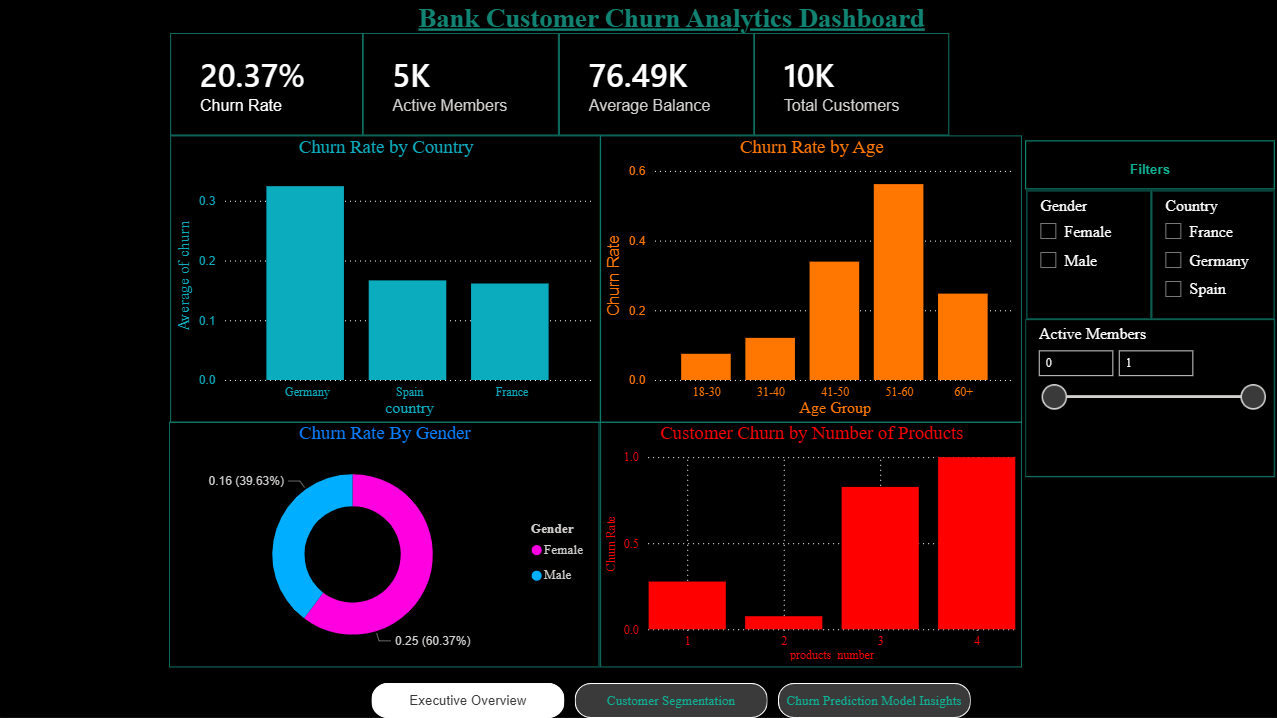

This screenshot's page, from the dashboard's own definition file:
{"tool":"powerbi","page":{"name":"Executive Overview","canvas":[1280,720],"ordinal":0},"visuals":[{"type":"cardVisual","fields":{"Data":["CountNonNull(cleaned_bank_churn.credit_card)"]},"box":[754.5,34.8,195,102.5],"z":0},{"type":"cardVisual","fields":{"Data":["cleaned_bank_churn.Churn Rate"]},"box":[170.7,34.8,192.5,102.5],"z":1000},{"type":"cardVisual","fields":{"Data":["cleaned_bank_churn.Active Members"]},"box":[363.2,34.8,196.2,102.5],"z":2000},{"type":"cardVisual","fields":{"Data":["cleaned_bank_churn.Average Balance"]},"box":[559.5,34.8,195,102.5],"z":3000},{"type":"clusteredColumnChart","title":"Churn Rate by Country","fields":{"Category":["cleaned_bank_churn.country"],"Y":["Avg(cleaned_bank_churn.churn)"]},"box":[170.7,137.3,430,287.5],"z":4000},{"type":"donutChart","title":"Churn Rate By Gender","fields":{"Category":["cleaned_bank_churn.gender"],"Y":["Avg(cleaned_bank_churn.churn)"]},"box":[170.6,424,430,245.4],"z":5000},{"type":"columnChart","title":"Customer Churn by Number of Products","fields":{"Category":["cleaned_bank_churn.products_number"],"Y":["Avg(cleaned_bank_churn.churn)"]},"box":[600.7,423.4,421.4,245.7],"z":6000},{"type":"slicer","fields":{"Values":["cleaned_bank_churn.country"]},"box":[1152.7,192,124.3,128.6],"z":7000},{"type":"slicer","fields":{"Values":["cleaned_bank_churn.gender"]},"box":[1027.5,192.5,125,128.8],"z":8000},{"type":"slicer","fields":{"Values":["cleaned_bank_churn.active_member"]},"box":[1026.2,321.2,250,157.5],"z":9000},{"type":"textbox","box":[292.3,0,760.2,53.5],"z":10000},{"type":"clusteredColumnChart","title":"Churn Rate by Age","fields":{"Y":["Avg(cleaned_bank_churn.churn)"],"Category":["cleaned_bank_churn.Age Group"]},"box":[600.7,137.3,421.2,287.5],"z":11000},{"type":"textbox","box":[1026.8,142.9,250,48.9],"z":12000},{"type":"pageNavigator","box":[372.5,685,600,35],"z":13000}]}

Visuals, with their boxes in screenshot pixels (x1, y1, x2, y2), scaled from the page's 1280x720 canvas onto the 1277x718 screenshot:
cardVisual - CountNonNull(cleaned_bank_churn.credit_card): {"left": 753, "top": 35, "right": 947, "bottom": 137}
cardVisual - cleaned_bank_churn.Churn Rate: {"left": 170, "top": 35, "right": 362, "bottom": 137}
cardVisual - cleaned_bank_churn.Active Members: {"left": 362, "top": 35, "right": 558, "bottom": 137}
cardVisual - cleaned_bank_churn.Average Balance: {"left": 558, "top": 35, "right": 753, "bottom": 137}
"Churn Rate by Country" clusteredColumnChart: {"left": 170, "top": 137, "right": 599, "bottom": 424}
"Churn Rate By Gender" donutChart: {"left": 170, "top": 423, "right": 599, "bottom": 668}
"Customer Churn by Number of Products" columnChart: {"left": 599, "top": 422, "right": 1020, "bottom": 667}
slicer - cleaned_bank_churn.country: {"left": 1150, "top": 191, "right": 1274, "bottom": 320}
slicer - cleaned_bank_churn.gender: {"left": 1025, "top": 192, "right": 1150, "bottom": 320}
slicer - cleaned_bank_churn.active_member: {"left": 1024, "top": 320, "right": 1273, "bottom": 477}
textbox: {"left": 292, "top": 0, "right": 1050, "bottom": 53}
"Churn Rate by Age" clusteredColumnChart: {"left": 599, "top": 137, "right": 1020, "bottom": 424}
textbox: {"left": 1024, "top": 143, "right": 1274, "bottom": 191}
pageNavigator: {"left": 372, "top": 683, "right": 970, "bottom": 717}
